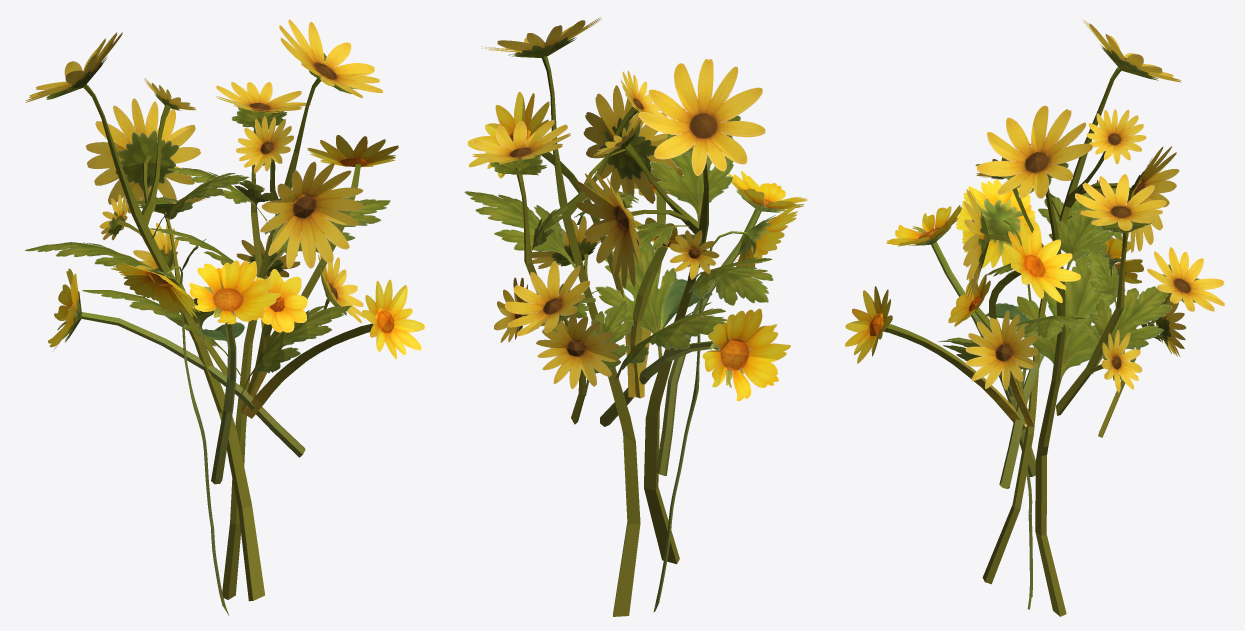
The model's file is P_Flowerjinzhanju_04.obj.
3 views of the same model, side by side, from view 1: azimuth 30°, elevation 25°; view 2: azimuth 150°, elevation 25°; view 3: azimuth 270°, elevation 25° (orthographic). The views are drawn at different scales.
Size of the model in its own units: 0.3616 by 0.5937 by 0.379.
Materials: 1 (1 with a texture image).
